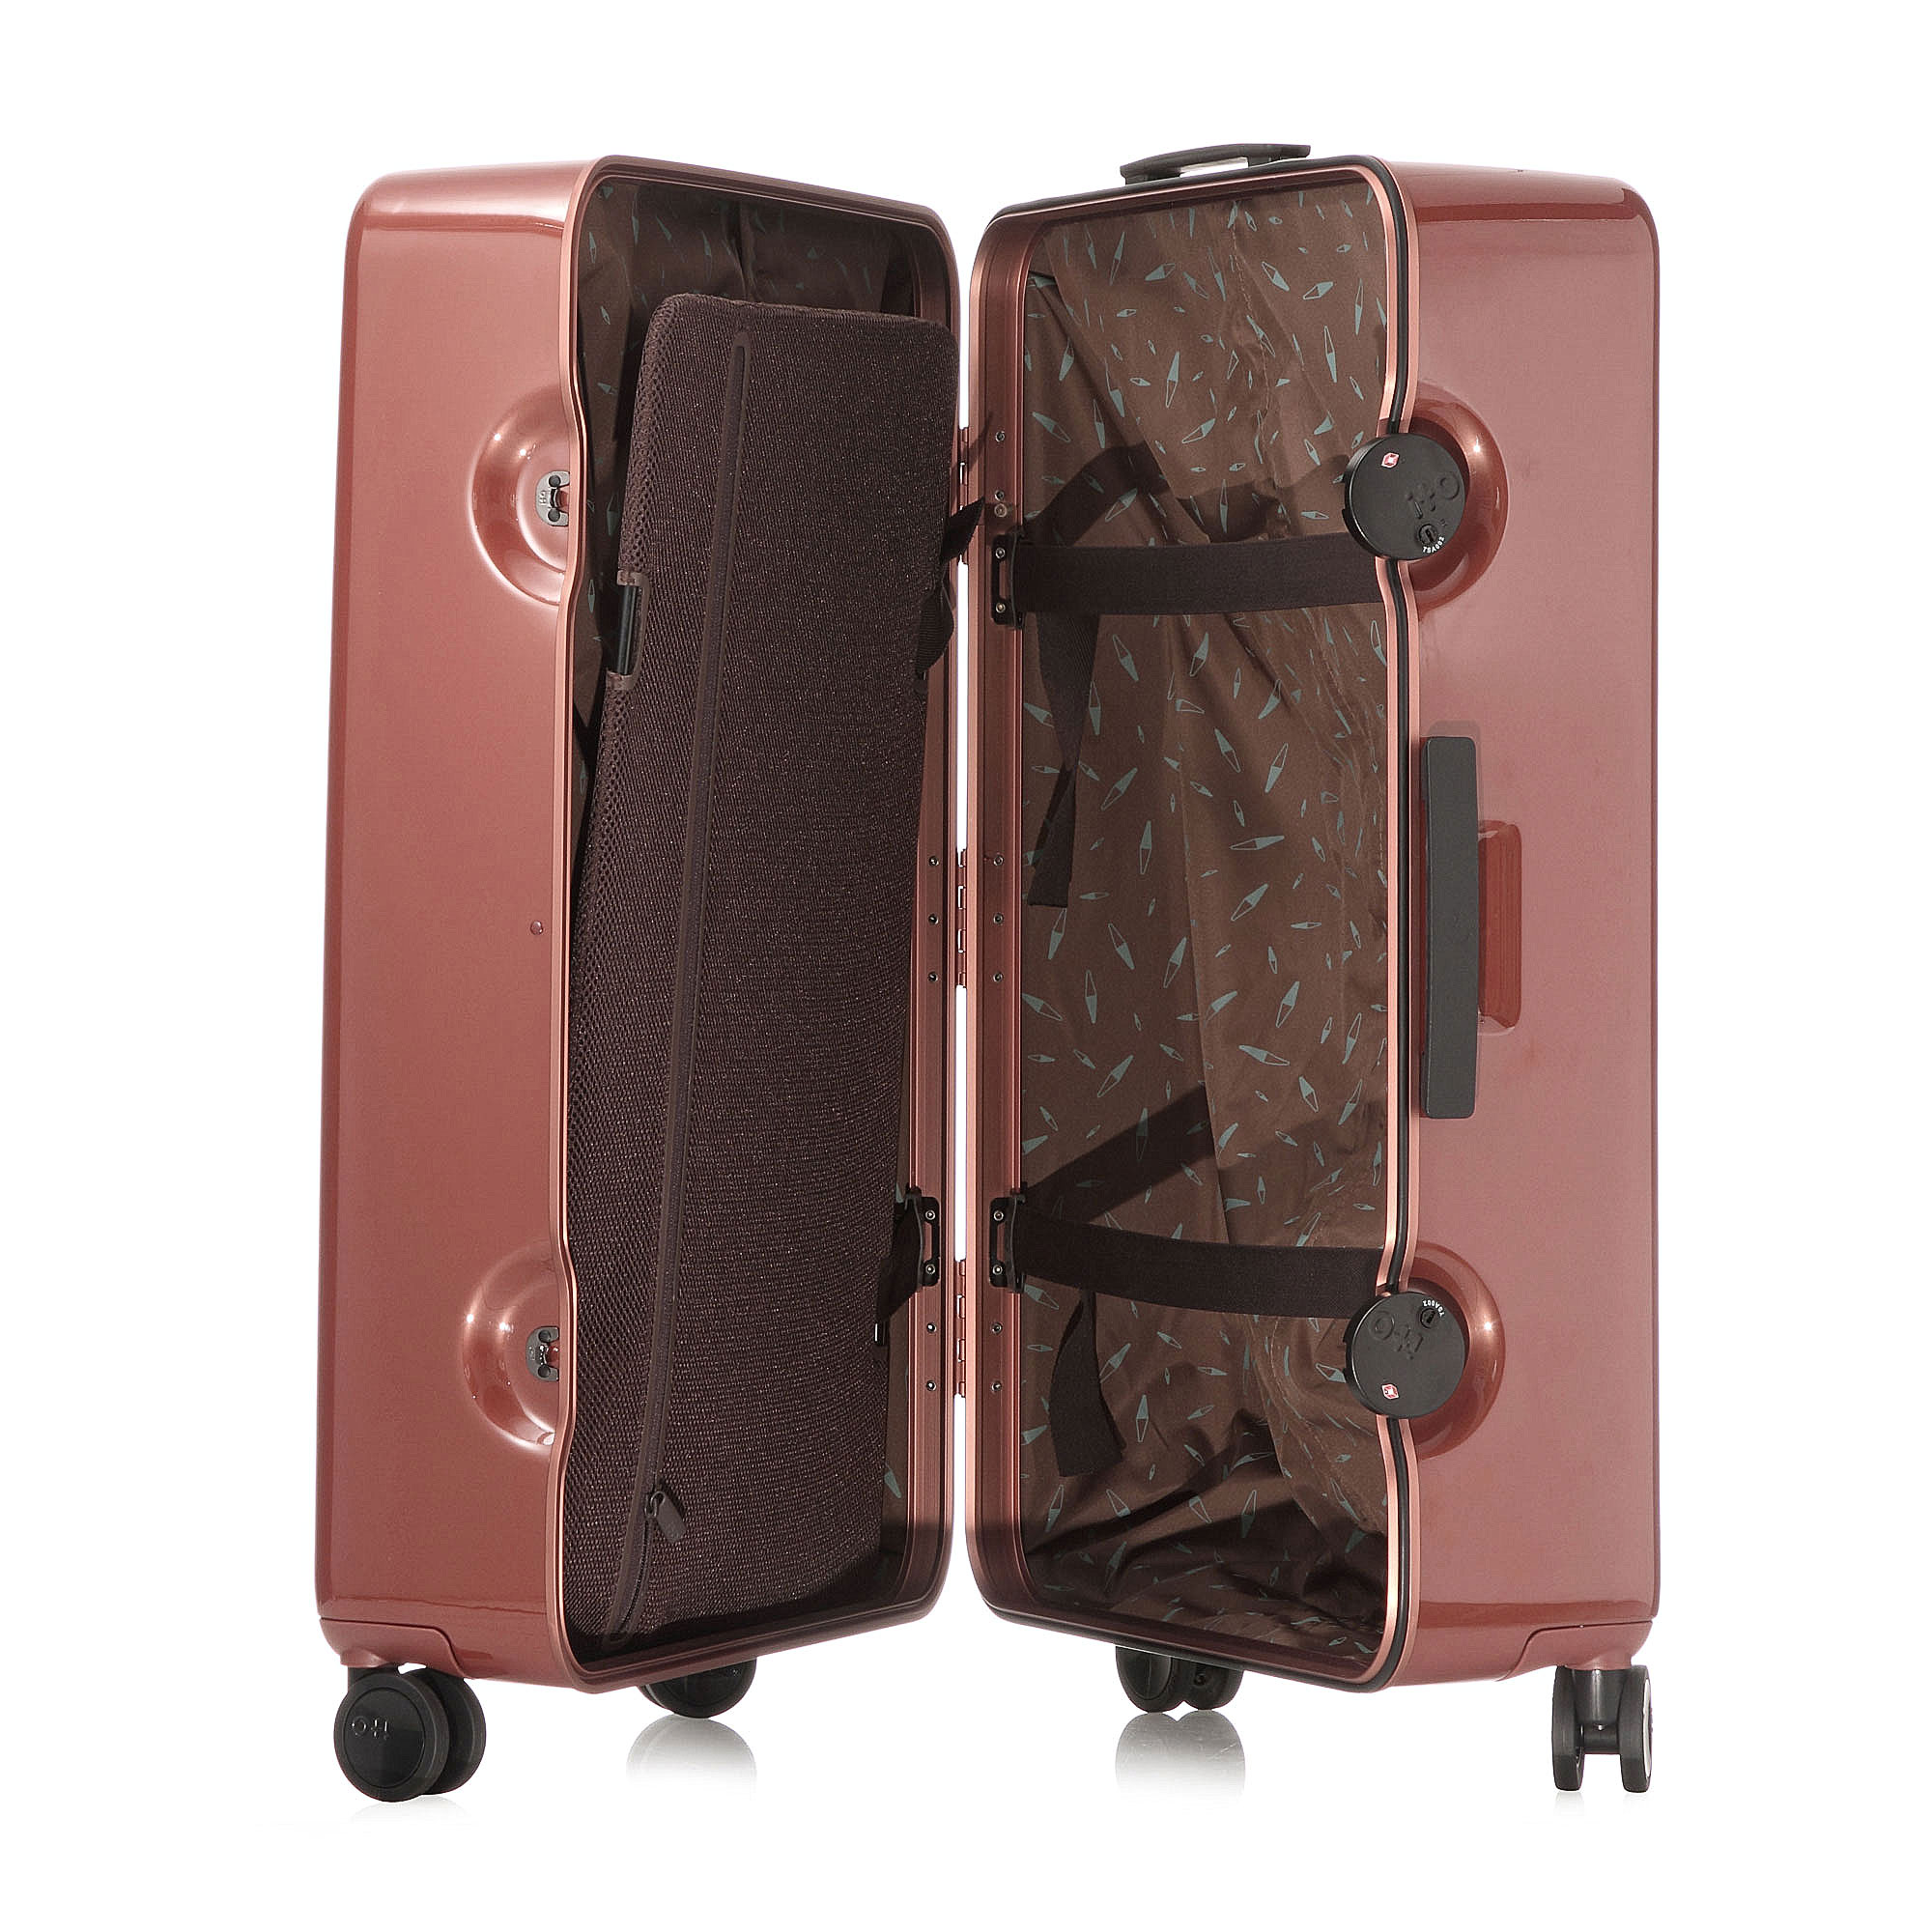suitcase: (308, 140, 1665, 1798)
